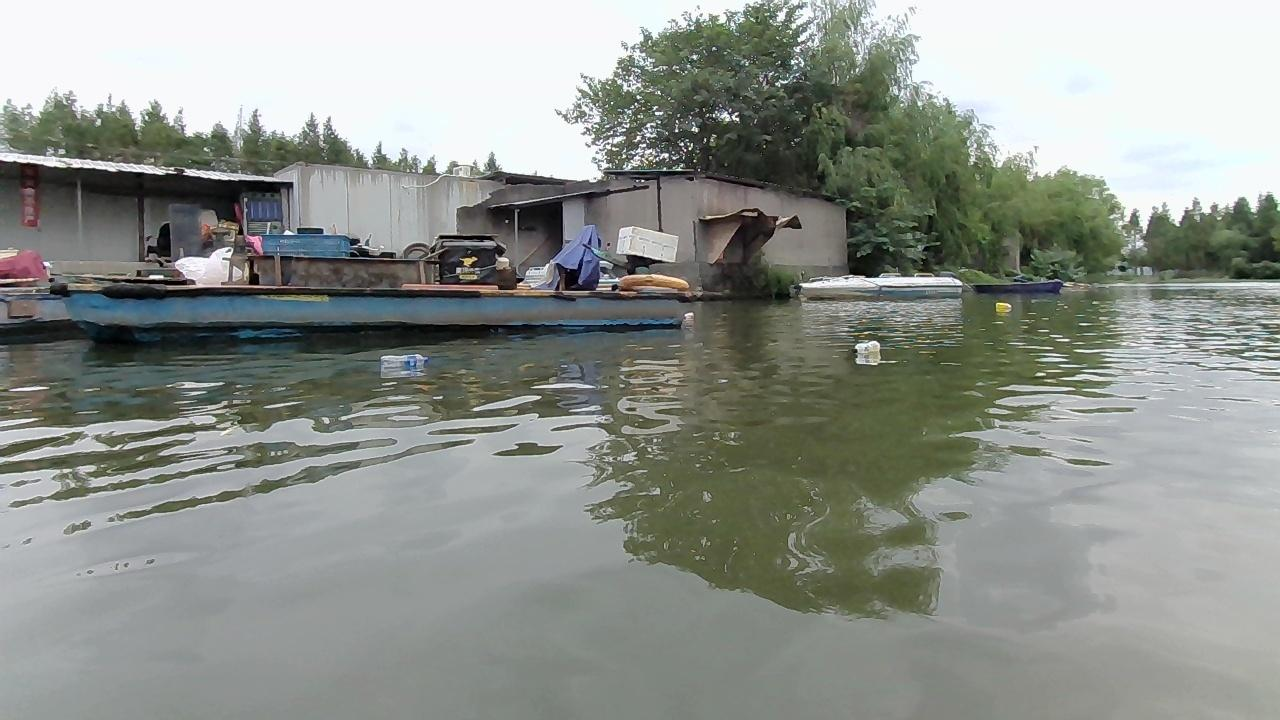bottle: (384, 350, 425, 373), (847, 334, 883, 360), (993, 298, 1010, 316)
